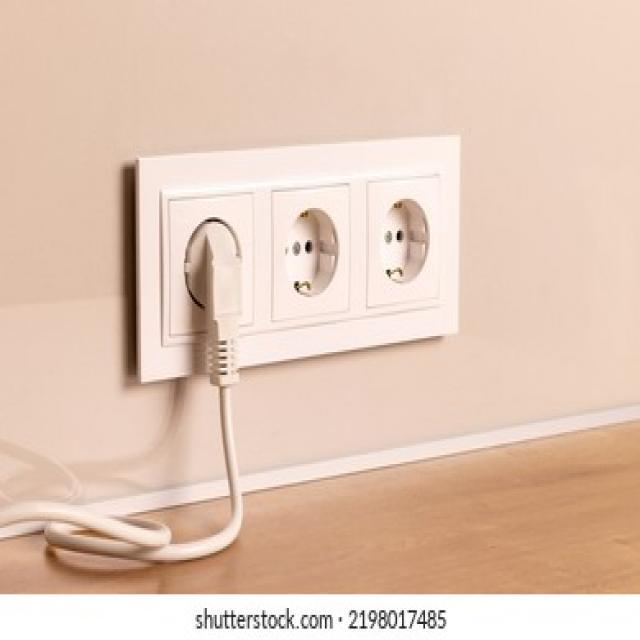typeb: (111, 100, 514, 382)
